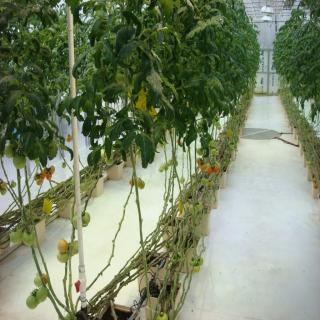tomato: (195, 147, 219, 173), (33, 167, 56, 185), (32, 269, 48, 285), (22, 226, 35, 245), (26, 290, 38, 310), (10, 224, 22, 243), (56, 251, 70, 266), (36, 286, 48, 302), (69, 238, 80, 254), (81, 209, 90, 225), (58, 238, 68, 252), (156, 312, 168, 320), (66, 132, 73, 142), (196, 201, 203, 211), (0, 187, 8, 195), (192, 264, 200, 272), (188, 204, 194, 214), (1, 180, 8, 188), (72, 215, 76, 229), (202, 177, 208, 186), (11, 178, 17, 186), (136, 177, 142, 185), (198, 257, 203, 265), (189, 258, 195, 264), (140, 180, 144, 188), (130, 178, 135, 184), (209, 180, 212, 186)
